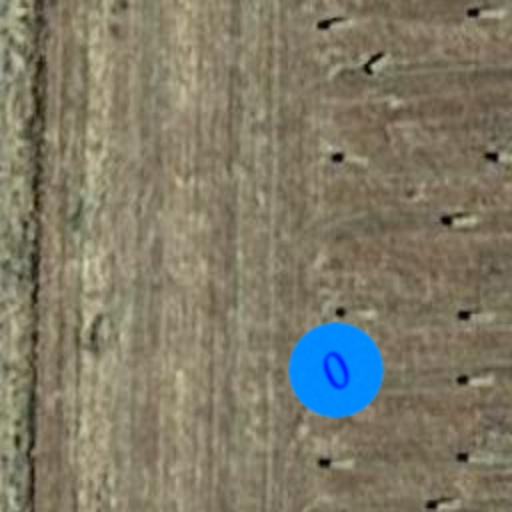circle: (268, 302, 404, 438)
